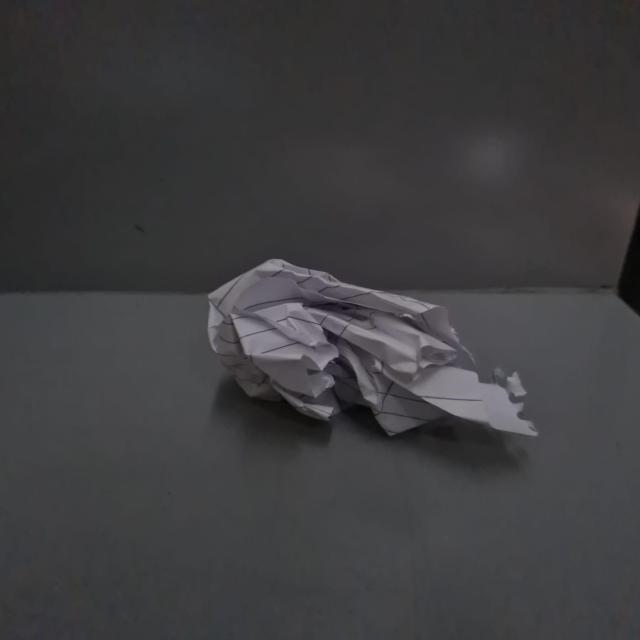kertas: (214, 256, 542, 439)
